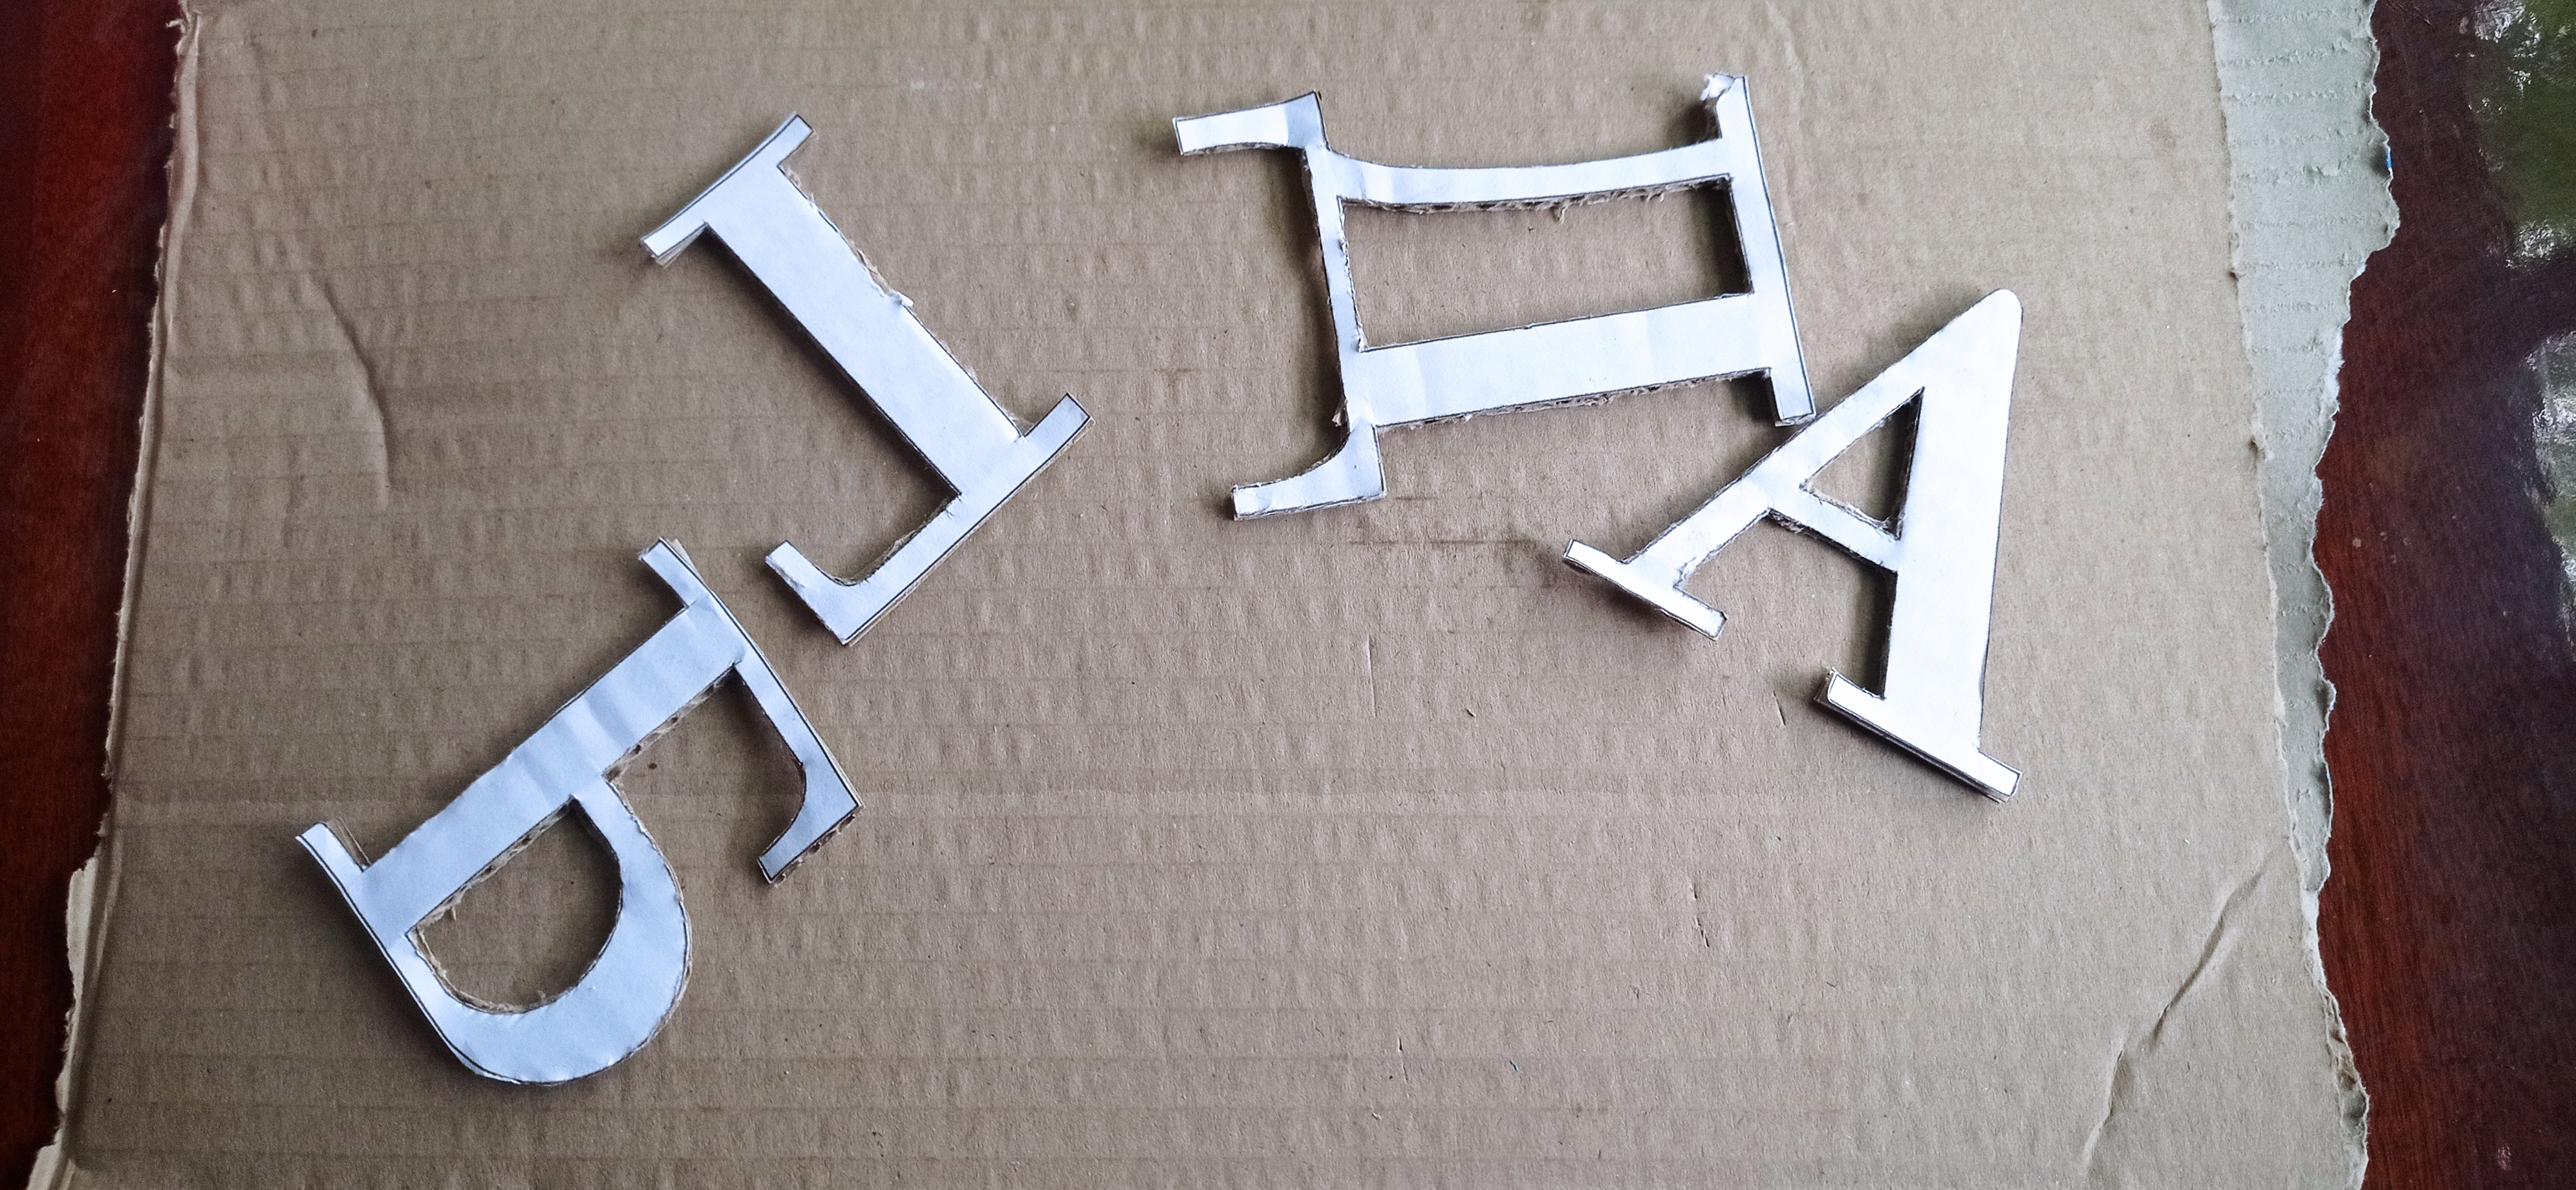a: (1562, 289, 2027, 799)
b: (292, 537, 866, 1090)
d: (1171, 72, 1817, 524)
g: (637, 107, 1092, 653)
